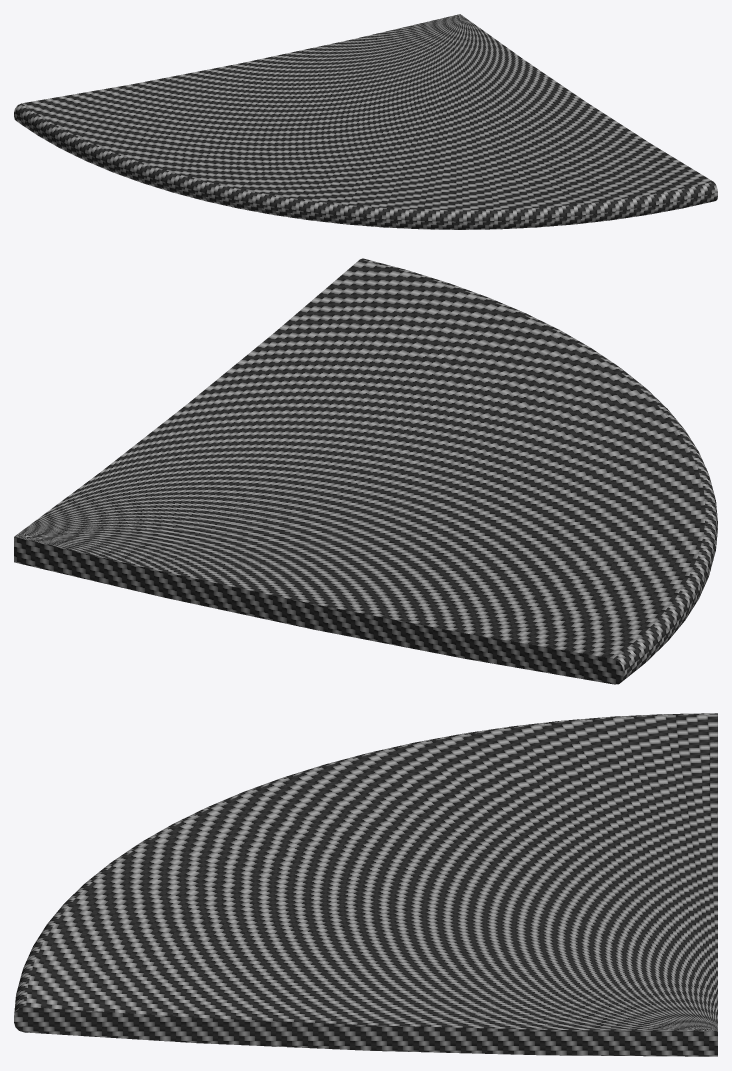
Rendered from Pieza1.glb.
3 renders of one model, top to bottom at view 1: azimuth 30°, elevation 25°; view 2: azimuth 150°, elevation 25°; view 3: azimuth 270°, elevation 25°, orthographic. The views are drawn at different scales.
Parts seen in each view (by area): view 1: Sólido1; view 2: Sólido1; view 3: Sólido1.
Boxes of the visible parts, x1=… form: Sólido1: x1=14, y1=14, x2=717, y2=229; Sólido1: x1=14, y1=258, x2=717, y2=684; Sólido1: x1=14, y1=713, x2=717, y2=1056.
Size of the model in its own units: 0.125 by 0.00973 by 0.125.
1 material, 1 textured.
